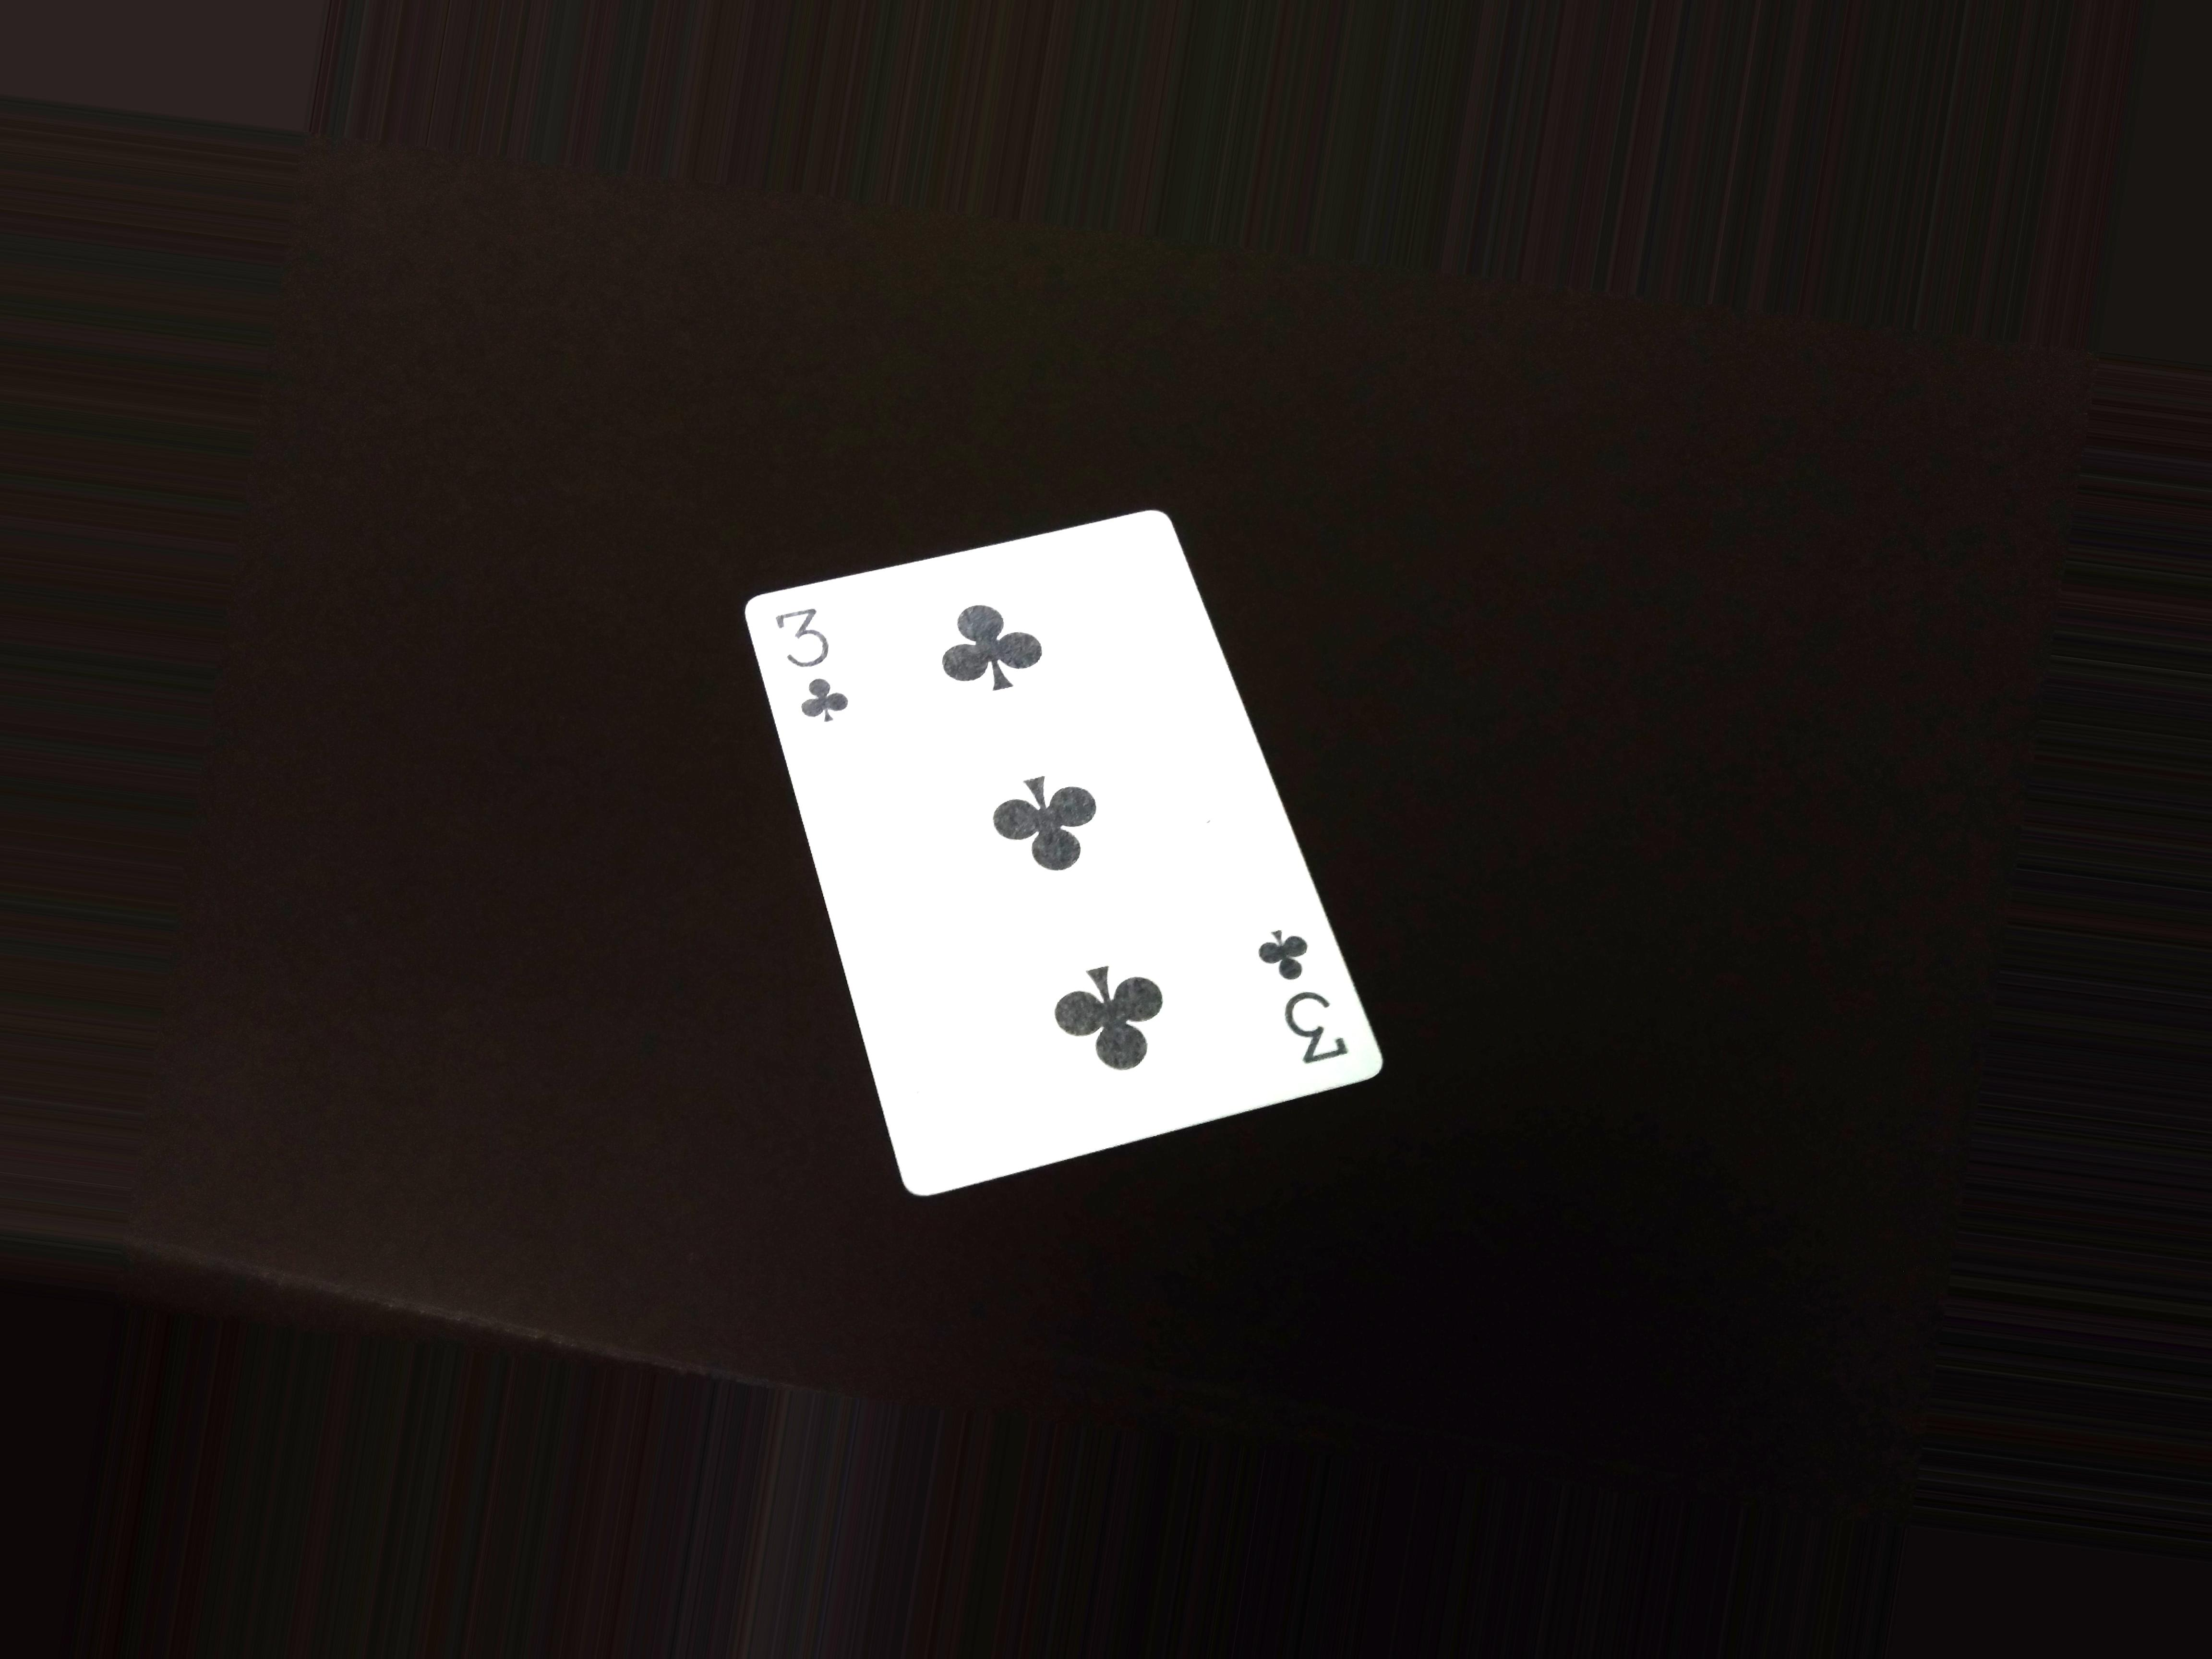3C: (1237, 918, 1371, 1101)
